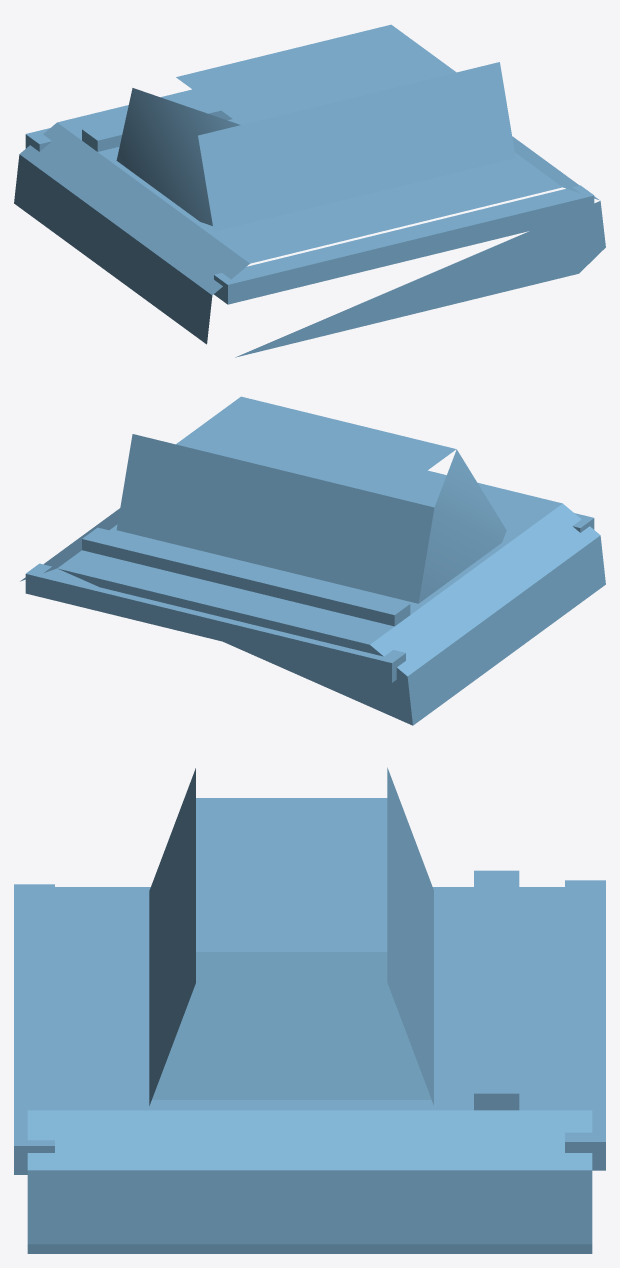
File: premium_sportscar.body.glb
3 views of the same model, one above another, from view 1: azimuth 30°, elevation 25°; view 2: azimuth 150°, elevation 25°; view 3: azimuth 270°, elevation 25° (orthographic). The views are drawn at different scales.
Parts seen in each view (by area): view 1: premium_sportscar body; view 2: premium_sportscar body; view 3: premium_sportscar body.
Boxes of the visible parts, left/top/right/bottom form: premium_sportscar body: left=14, top=24, right=605, bottom=357; premium_sportscar body: left=20, top=396, right=605, bottom=725; premium_sportscar body: left=14, top=767, right=605, bottom=1253.
Bounding box in the file's own units: 1.48 × 0.62 × 1.3.
